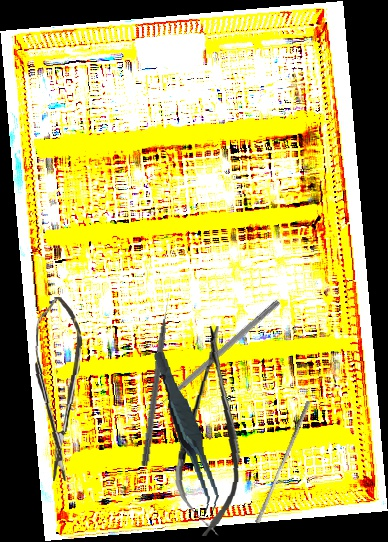Chopper: (143, 292, 282, 415)
Micro Scissor: (170, 323, 252, 539), (30, 296, 84, 482)
Pusher: (254, 398, 312, 526), (140, 292, 175, 467)
Tissue Forceps: (152, 347, 222, 516)
